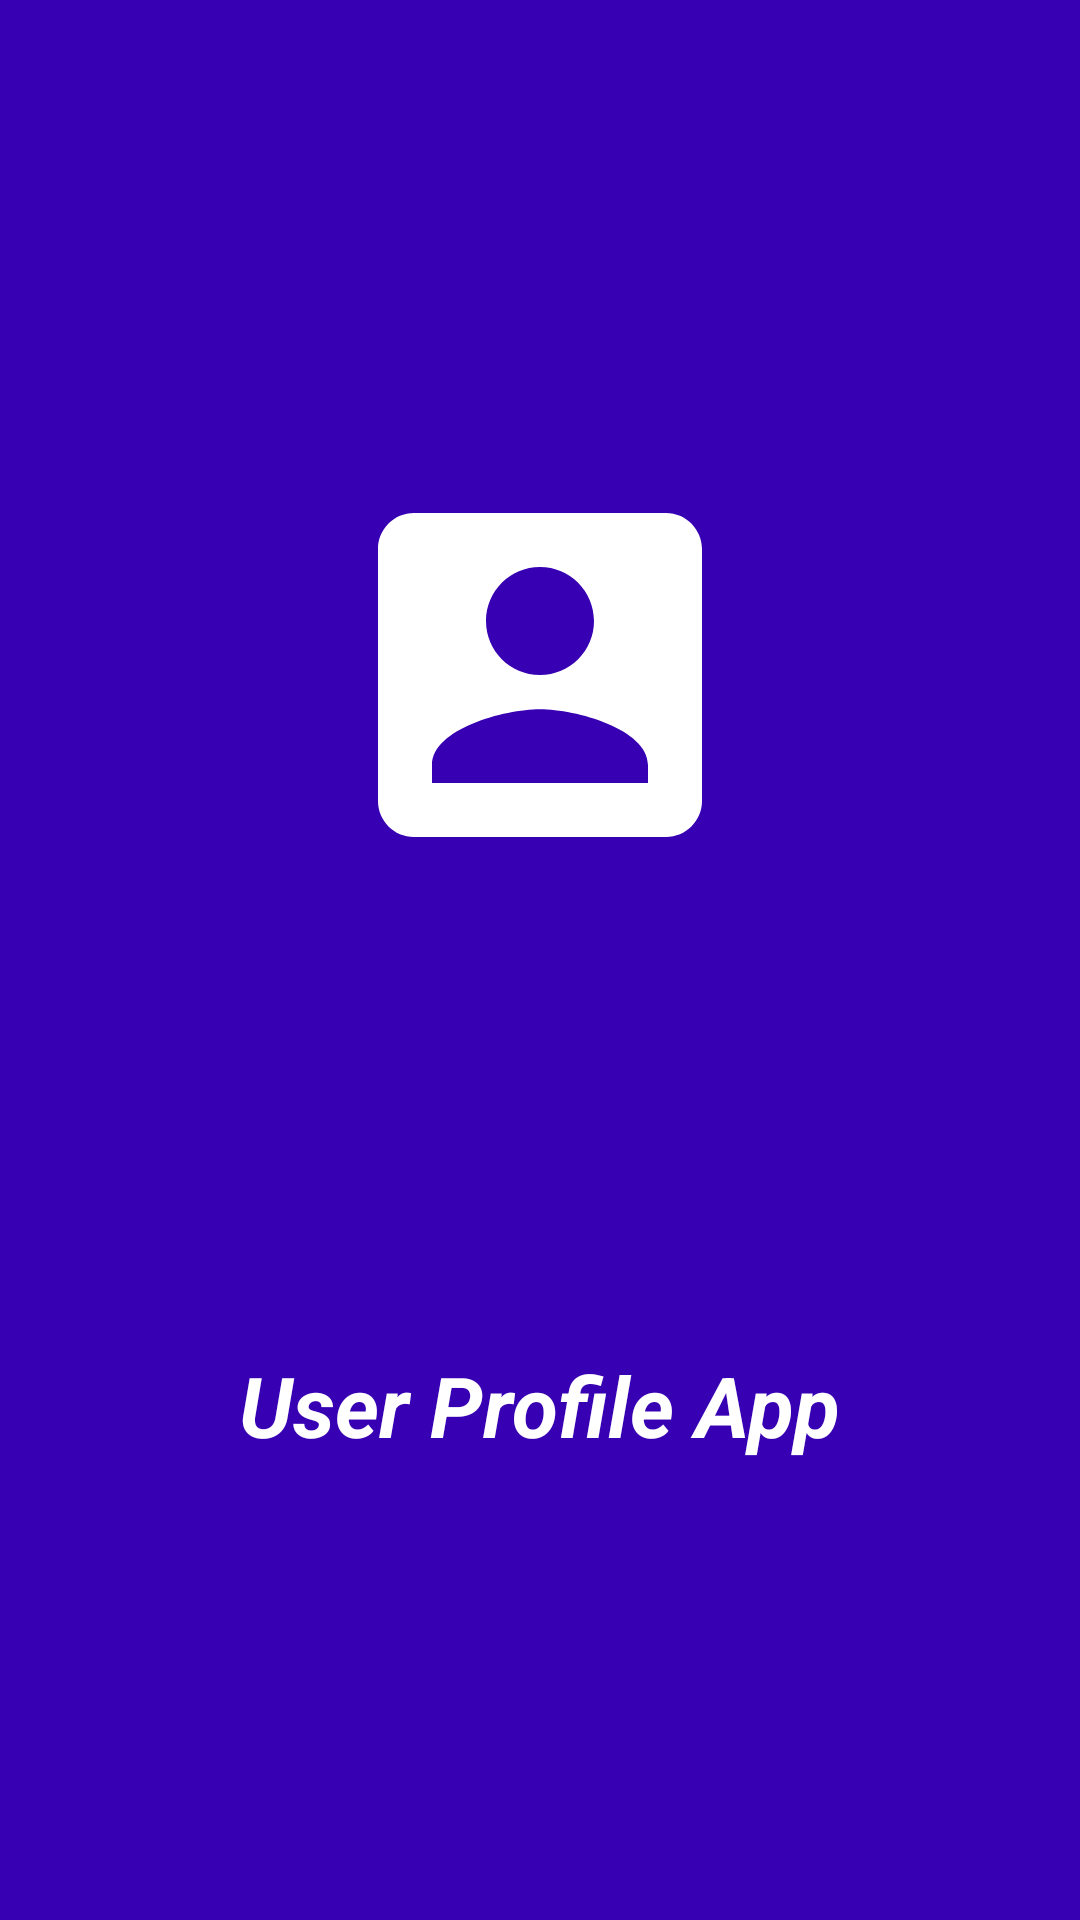

Named icons in this screenshot (1080x1920) and their bounding boxes, [x1,y1,x2,y2]:
account box: [378,513,702,837]
